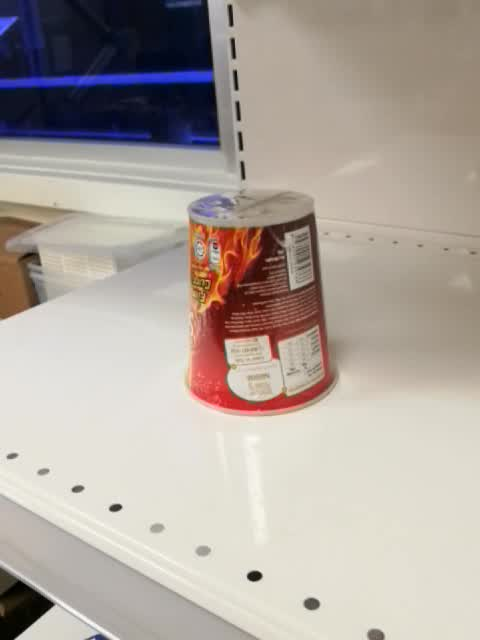maggi: (184, 188, 340, 420)
